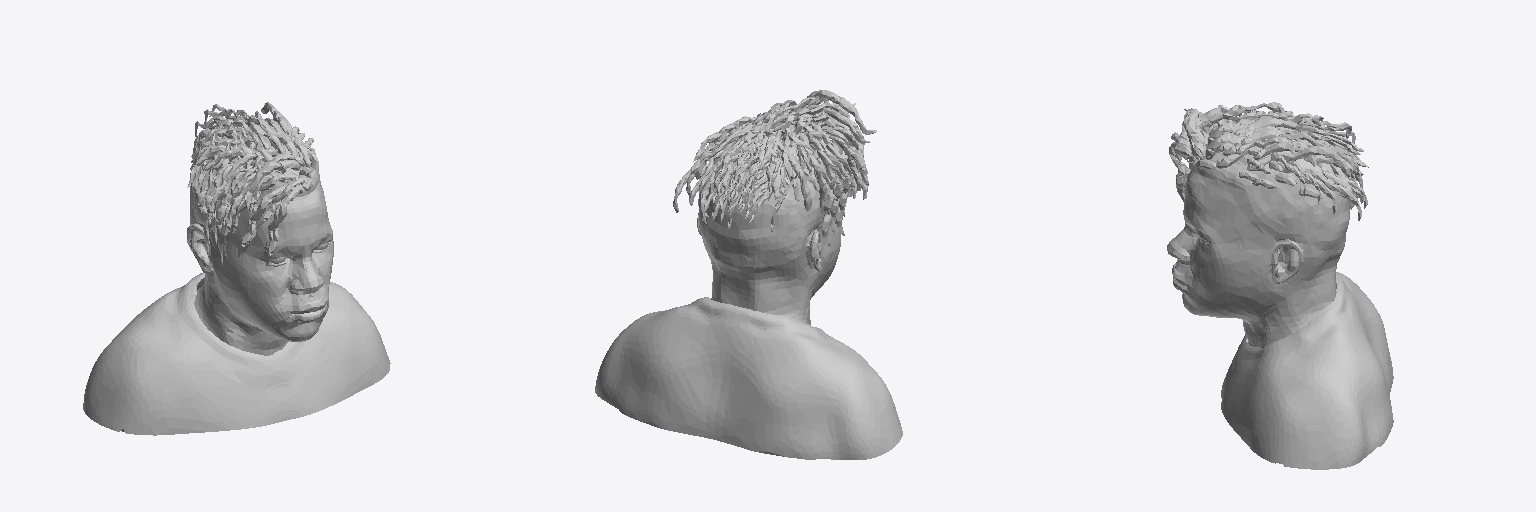
Rendered from head_final2.obj.
3 renders of one model, left to right at view 1: azimuth 30°, elevation 25°; view 2: azimuth 150°, elevation 25°; view 3: azimuth 270°, elevation 25°, orthographic.
Parts seen in each view (by area): view 1: sholder_Group22081, head690_pSphere1, polySurface7, polySurface7_2, polySurface7_1, polySurface7_3; view 2: sholder_Group22081, head690_pSphere1, polySurface7, polySurface7_2, polySurface7_1, polySurface7_3; view 3: head690_pSphere1, sholder_Group22081, polySurface7, polySurface7_1, polySurface7_2, polySurface7_3.
Part boxes in pixels (left/top/right/bottom): sholder_Group22081: left=83, top=272, right=390, bottom=435; head690_pSphere1: left=187, top=127, right=333, bottom=355; polySurface7: left=192, top=102, right=318, bottom=265; polySurface7_2: left=187, top=111, right=313, bottom=243; polySurface7_1: left=191, top=104, right=307, bottom=228; polySurface7_3: left=190, top=121, right=292, bottom=261; sholder_Group22081: left=595, top=297, right=902, bottom=459; head690_pSphere1: left=697, top=116, right=840, bottom=324; polySurface7: left=673, top=96, right=876, bottom=246; polySurface7_2: left=695, top=105, right=869, bottom=223; polySurface7_1: left=700, top=90, right=863, bottom=217; polySurface7_3: left=702, top=109, right=864, bottom=232; head690_pSphere1: left=1167, top=135, right=1349, bottom=347; sholder_Group22081: left=1221, top=272, right=1393, bottom=469; polySurface7: left=1169, top=102, right=1361, bottom=220; polySurface7_1: left=1171, top=109, right=1363, bottom=203; polySurface7_2: left=1209, top=103, right=1320, bottom=203; polySurface7_3: left=1175, top=119, right=1368, bottom=208.
Size of the model in its own units: 23.04 by 21.98 by 15.75.